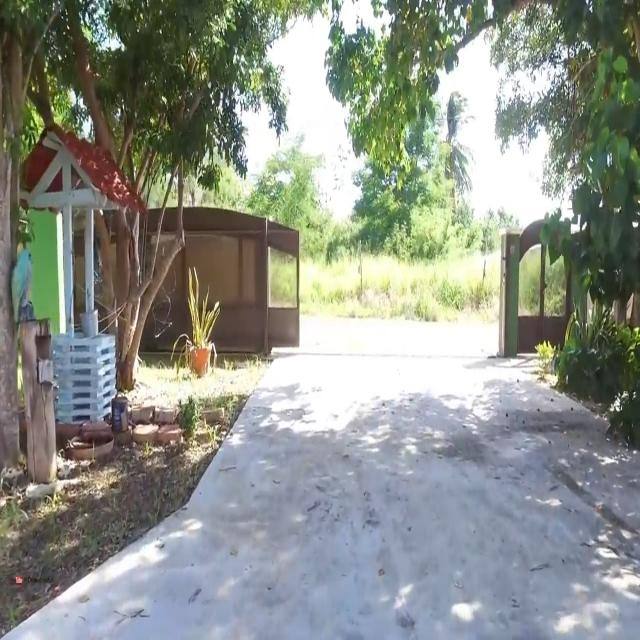Building: (28, 143, 140, 430), (142, 205, 300, 368), (498, 219, 580, 361)
Tree: (0, 2, 325, 178), (328, 0, 640, 182)
